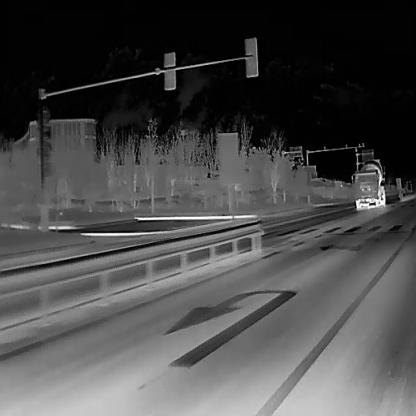truck: (350, 158, 386, 209)
